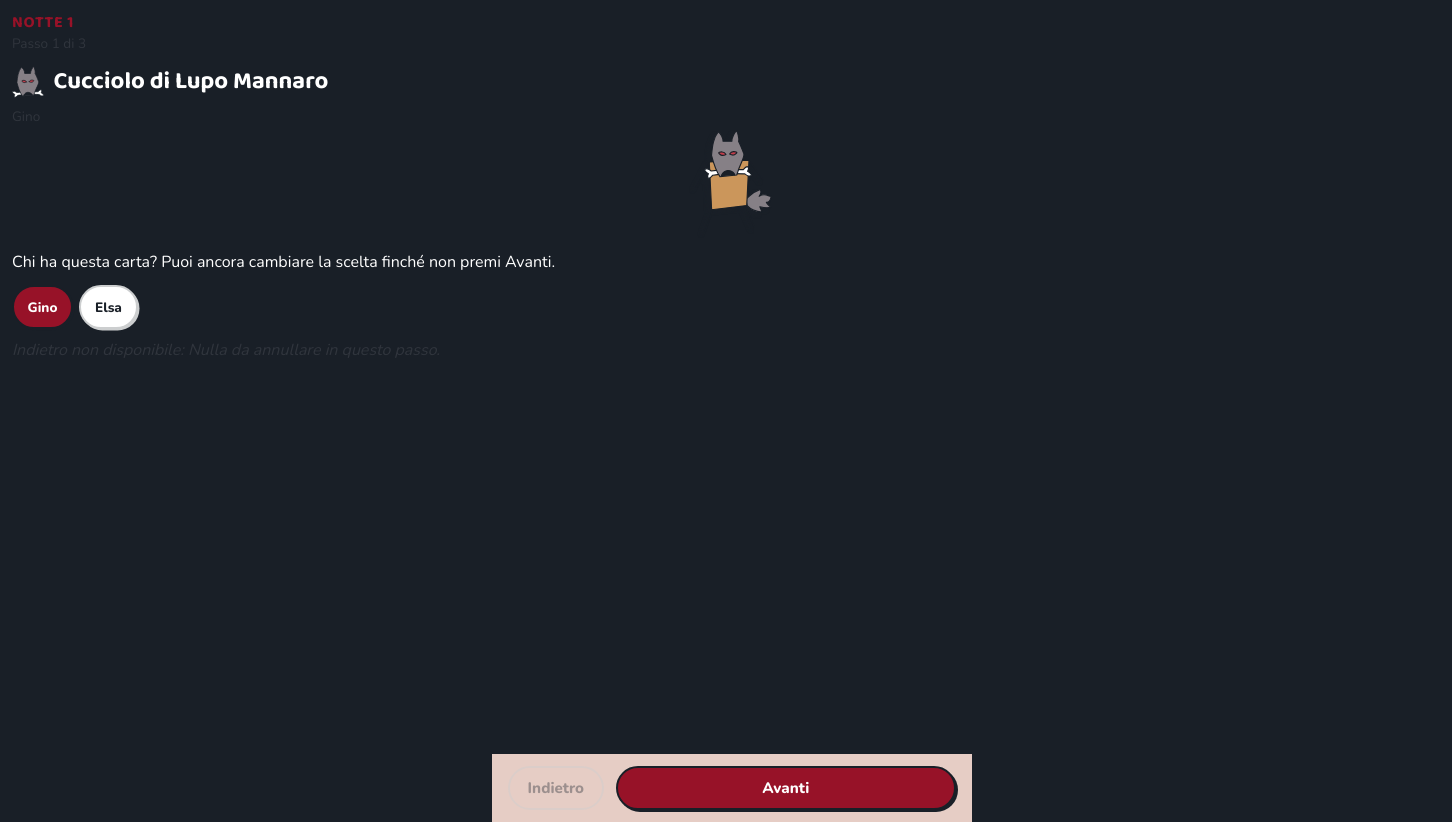
it: il passo "Lupo Mannaro" mostra già le illustrazioni di tutto il branco riconosciuto finora (es. il Cucciolo) e cambia la domanda in "Seleziona i lupi mannari ri
Click the button "Avanti" at (786, 788), box [616,766,956,810]
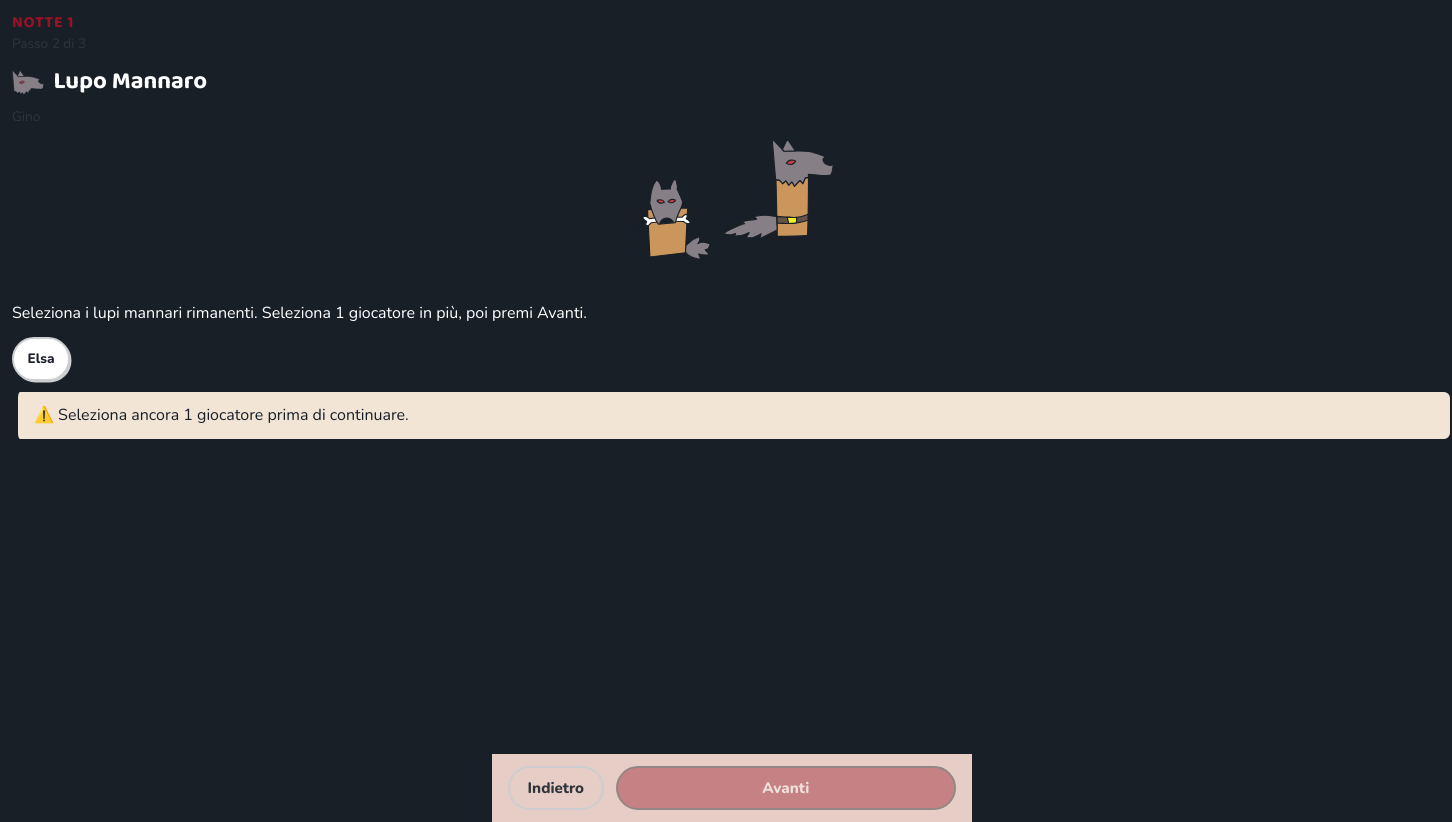
Check: the button "Elsa" is shown, box [12,337,70,381]
Check: the heading "Lupo Mannaro" is shown, box [12,62,207,101]
Check: the text "Seleziona i lupi mannari rimanenti" is shown, box [12,302,258,324]
